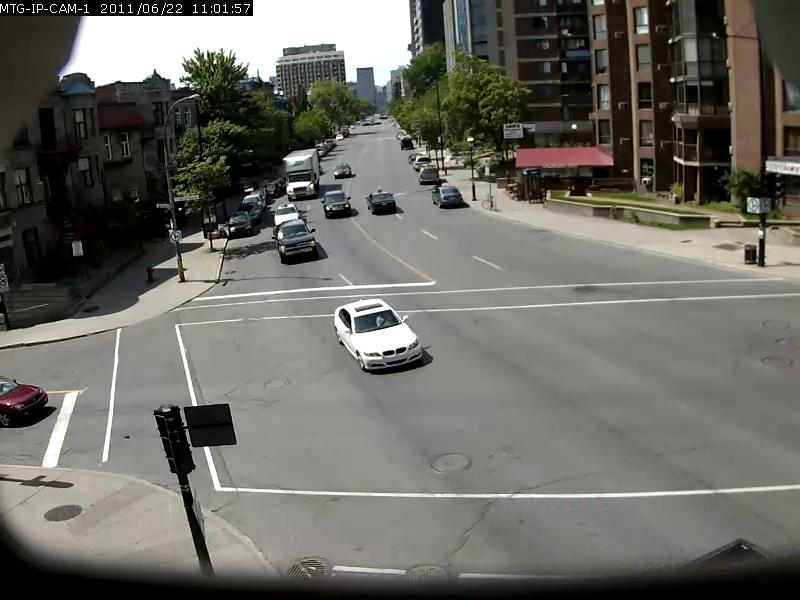Car: (332, 299, 423, 372), (1, 376, 50, 426), (273, 219, 316, 261), (322, 189, 351, 218), (365, 190, 397, 214), (273, 202, 301, 226), (333, 161, 352, 179)
Truck: (283, 148, 321, 200)
